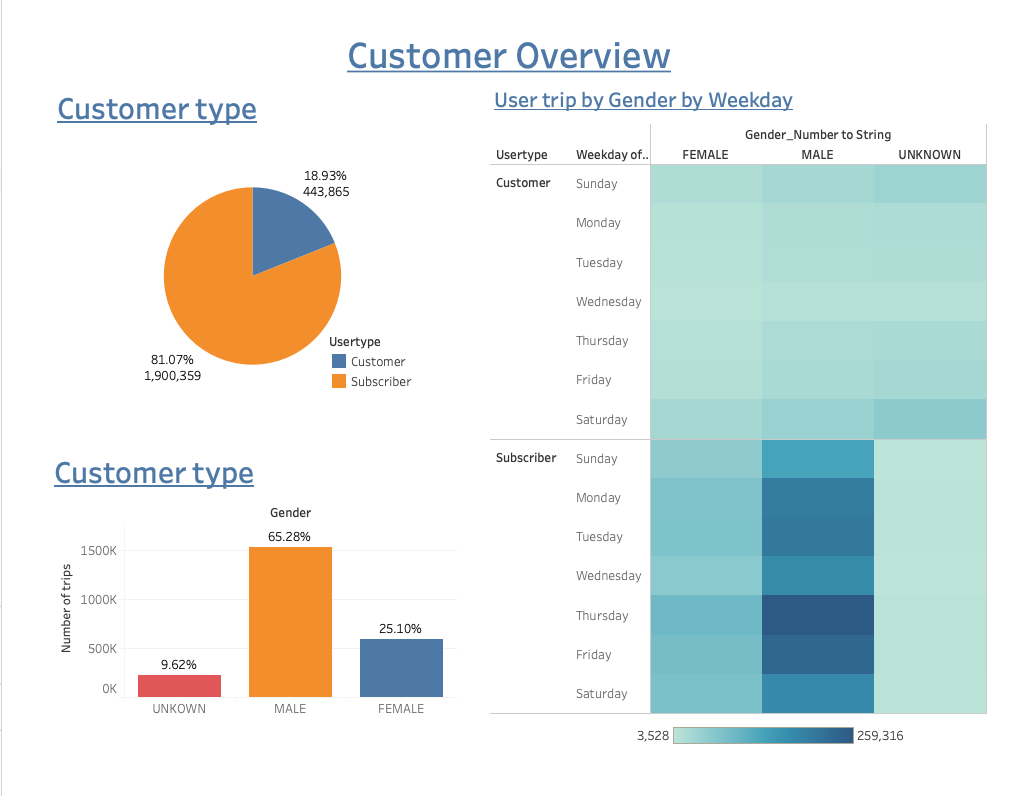

This screenshot's page, from the dashboard's own definition file:
{"tool":"tableau","page":{"name":"D1-Customer","canvas":[1000,800],"ordinal":0},"visuals":[{"type":"text","box":[29,44,941,58]},{"type":"worksheet","title":"User Trips by Gender by Weekday","mark":"Automatic","rows":["usertype","starttime"],"cols":["Calculation_3634123456702881793"],"box":[480,100,497,633]},{"type":"worksheet","title":"customer type","mark":"Pie","box":[43,102,399,331]},{"type":"legend","title":"customer type","param":"[federated.1bkvqci0archc3146wl8i0jmyrb0].[none:usertype:nk]","box":[319,352,140,90]},{"type":"worksheet","title":"customer by gender","mark":"Automatic","rows":["citibike_201908_update.csv_BCEE94EDC6294E779FA0D7EC6074AA64"],"cols":["gender"],"box":[40,466,407,271]},{"type":"legend","title":"User Trips by Gender by Weekday","param":"[federated.1bkvqci0archc3146wl8i0jmyrb0].[__tableau_internal_object_id__].[cnt:c","box":[623,742,276,40]}]}

Visuals, with their boxes in screenshot pixels (x1, y1, x2, y2), scaled from the page's 1000x800 canvas onto the 1018x796 screenshot:
text: BBox(30, 44, 987, 101)
"User Trips by Gender by Weekday" worksheet: BBox(489, 100, 995, 729)
"customer type" worksheet (Pie marks): BBox(44, 101, 450, 431)
"customer type" legend: BBox(325, 350, 467, 440)
"customer by gender" worksheet: BBox(41, 464, 455, 733)
"User Trips by Gender by Weekday" legend: BBox(634, 738, 915, 778)
